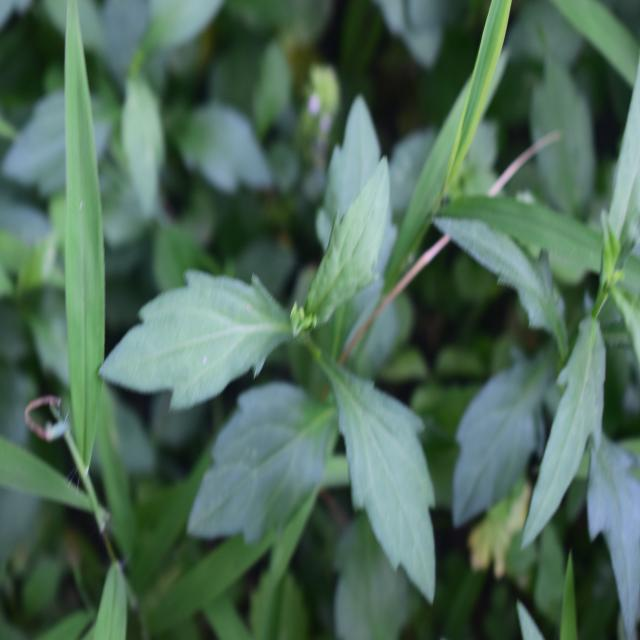Indian aster: (138, 164, 455, 586)
